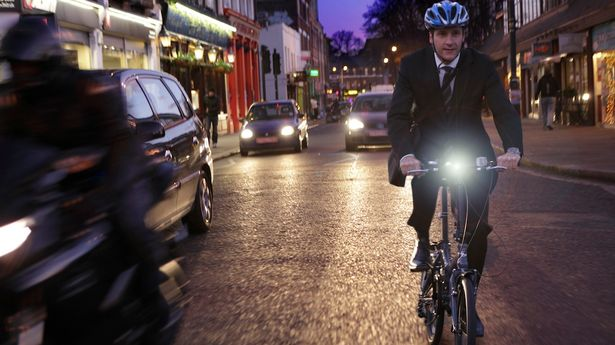helmet: (425, 1, 469, 61)
